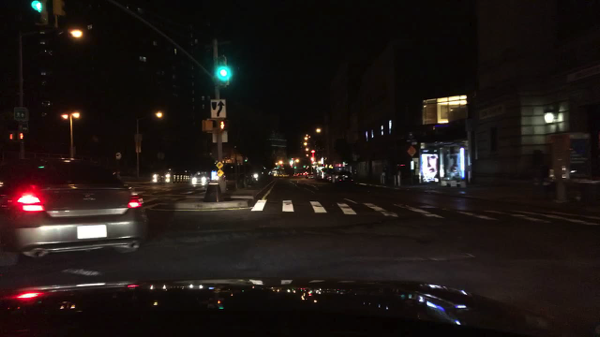car: (0, 157, 150, 263), (325, 167, 355, 185), (190, 176, 211, 190), (249, 170, 266, 185), (151, 172, 174, 183), (319, 169, 332, 180), (313, 167, 323, 179), (269, 170, 279, 177), (282, 173, 289, 178), (213, 176, 220, 180), (294, 173, 301, 176), (301, 173, 308, 176)
person: (394, 166, 402, 183), (381, 164, 388, 181)
traffic light: (214, 65, 233, 86), (31, 1, 47, 22), (203, 119, 226, 132), (52, 1, 65, 14), (9, 132, 16, 142), (18, 132, 24, 140)
traffic sign: (209, 100, 227, 118), (13, 107, 30, 121), (212, 132, 228, 143), (407, 146, 416, 156), (134, 134, 142, 142), (215, 162, 223, 169), (135, 144, 141, 152), (217, 170, 225, 176), (236, 157, 242, 164), (158, 154, 164, 160), (115, 153, 121, 159), (410, 161, 414, 169)
